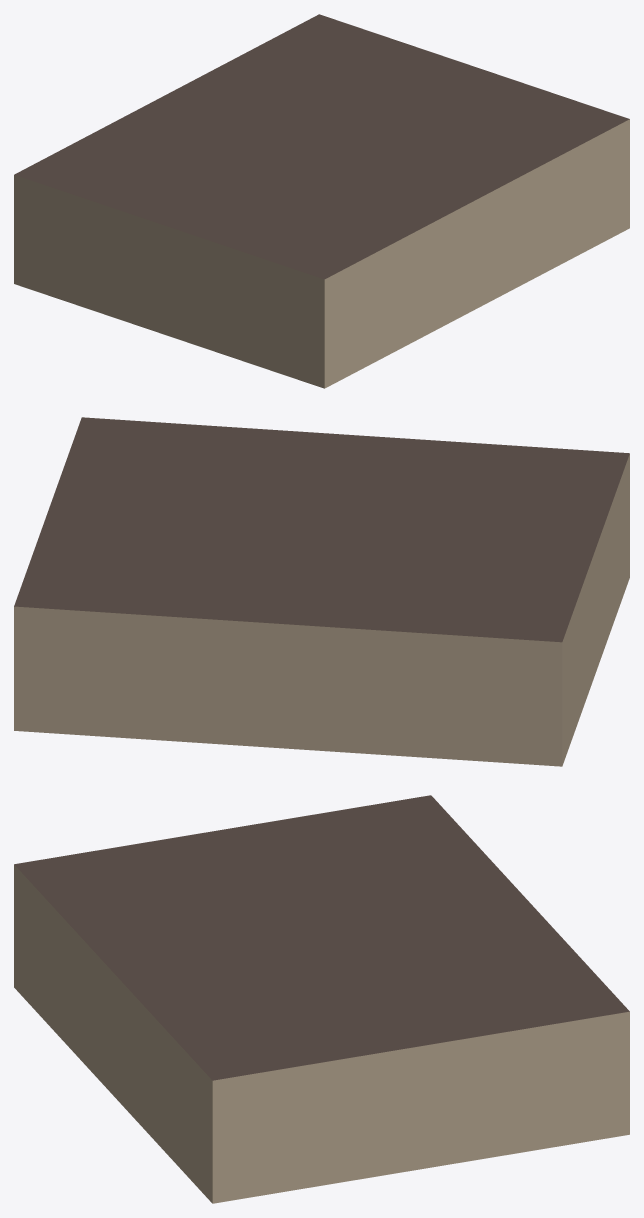
3 views of the same model, one above another, from view 1: azimuth 30°, elevation 25°; view 2: azimuth 150°, elevation 25°; view 3: azimuth 270°, elevation 25° (orthographic). The views are drawn at different scales.
Parts seen in each view (by area): view 1: HP-w859457347; view 2: HP-w859457347; view 3: HP-w859457347.
Part boxes in pixels (<box>): HP-w859457347: <box>14,14,629,388</box>; HP-w859457347: <box>14,417,629,766</box>; HP-w859457347: <box>14,795,629,1203</box>.
Bounding box in the file's own units: 29.84 × 6 × 27.21.
